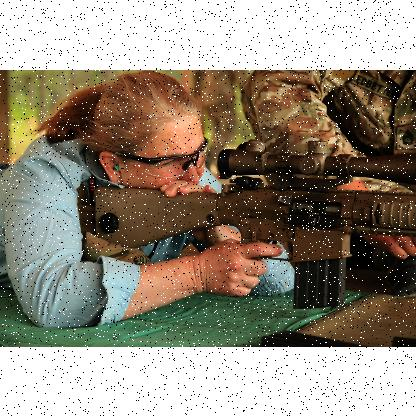gun: (77, 140, 415, 306)
